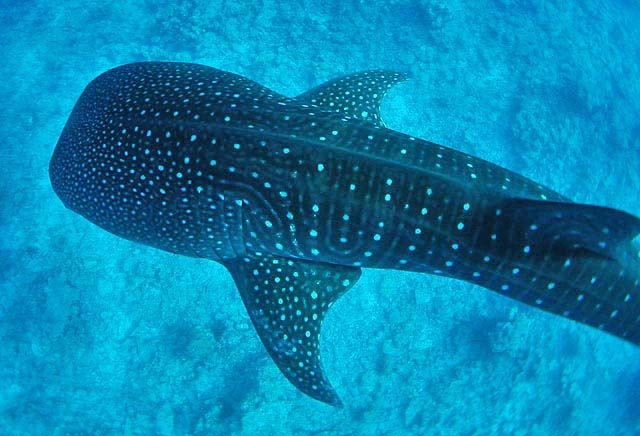Rhincodon_typusw: (31, 44, 639, 378)
